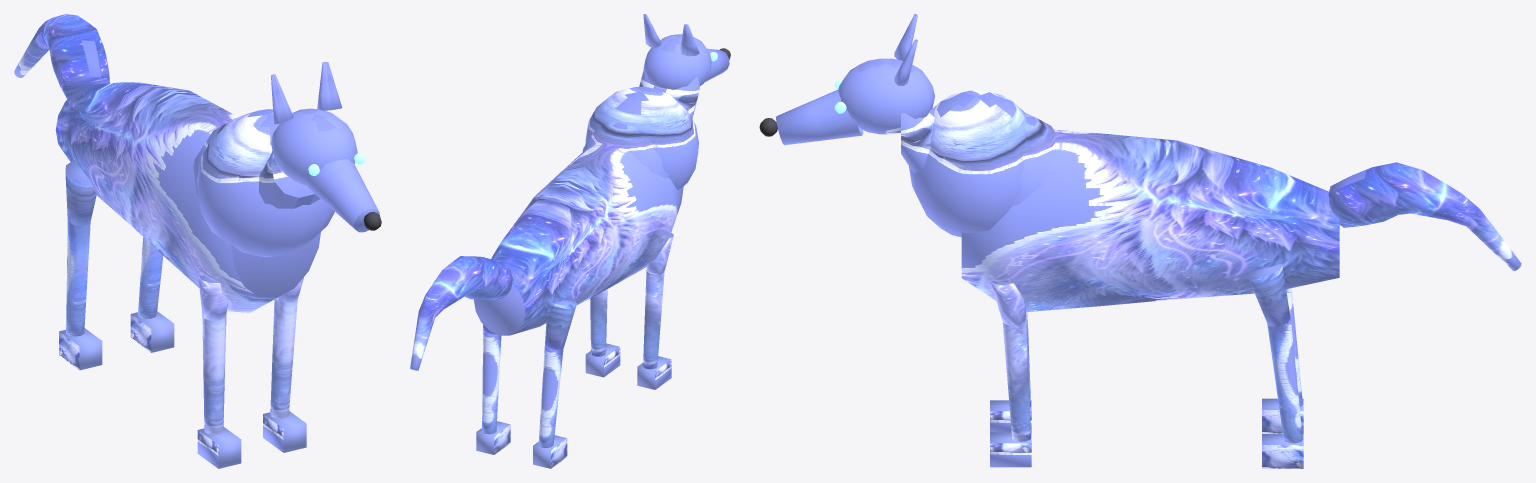
The model's file is wolf.glb.
3 views of the same model, side by side, from view 1: azimuth 30°, elevation 25°; view 2: azimuth 150°, elevation 25°; view 3: azimuth 270°, elevation 25° (orthographic). The views are drawn at different scales.
Visible parts, largest first — view 1: WolfBody, Mane, WolfHead, Leg.003, Leg.001, Tail, Leg, Leg.002, Ears; view 2: WolfBody, Mane, Tail, WolfHead, Leg.003, Leg.001, Leg.002, Leg, Ears; view 3: WolfBody, Mane, WolfHead, Tail, Leg.002, Leg, Leg.003, Ears, Leg.001.
Part boxes in pixels (x1,y1,x2,y2): WolfBody: (55, 82, 320, 312); Mane: (193, 109, 334, 256); WolfHead: (258, 108, 379, 232); Leg.003: (59, 160, 102, 370); Leg.001: (197, 275, 241, 468); Tail: (14, 14, 109, 99); Leg: (263, 277, 306, 452); Leg.002: (130, 237, 174, 352); Ears: (271, 62, 342, 124); WolfBody: (474, 143, 683, 335); Mane: (582, 86, 698, 190); Tail: (410, 256, 512, 370); WolfHead: (639, 34, 729, 118); Leg.003: (533, 299, 576, 468); Leg.001: (637, 233, 673, 389); Leg.002: (476, 324, 510, 454); Leg: (585, 289, 620, 377); Ears: (643, 14, 699, 56); WolfBody: (961, 129, 1339, 311); Mane: (909, 90, 1055, 237); WolfHead: (776, 58, 934, 172); Tail: (1328, 162, 1521, 270); Leg.002: (1246, 263, 1303, 468); Leg: (990, 280, 1031, 467); Leg.003: (1262, 288, 1303, 433); Ears: (894, 14, 917, 85); Leg.001: (990, 312, 1031, 432).
Size of the model in its own units: 0.39 by 1.22 by 2.02.
3 materials, 1 textured.
